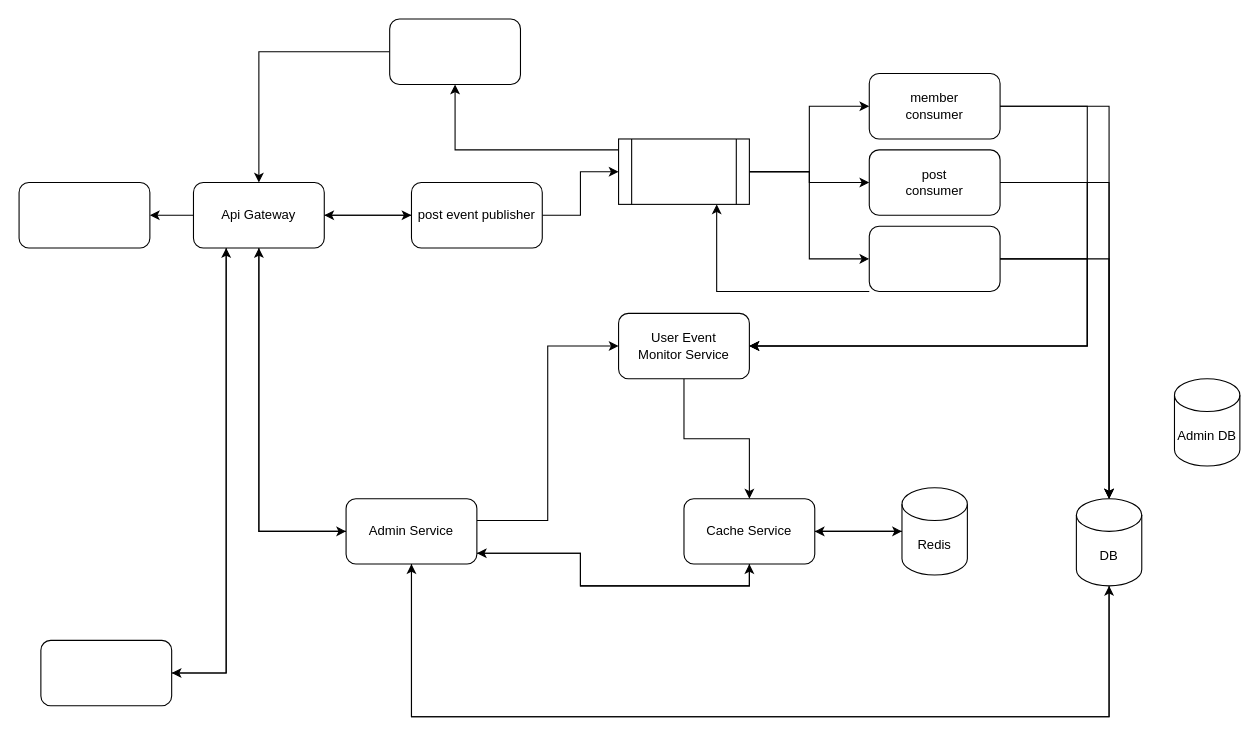
Image size: 1259x744. Some labels were removed from this diagram. The box of each missing label's shape, as (x1, y1, x2, y2) in pixels:
Alert Service: (389, 18, 520, 84)
Client: (18, 181, 150, 248)
Kafka: (617, 138, 749, 204)
reply consumer: (868, 225, 1000, 292)
Service Monitor Service: (40, 639, 172, 706)
